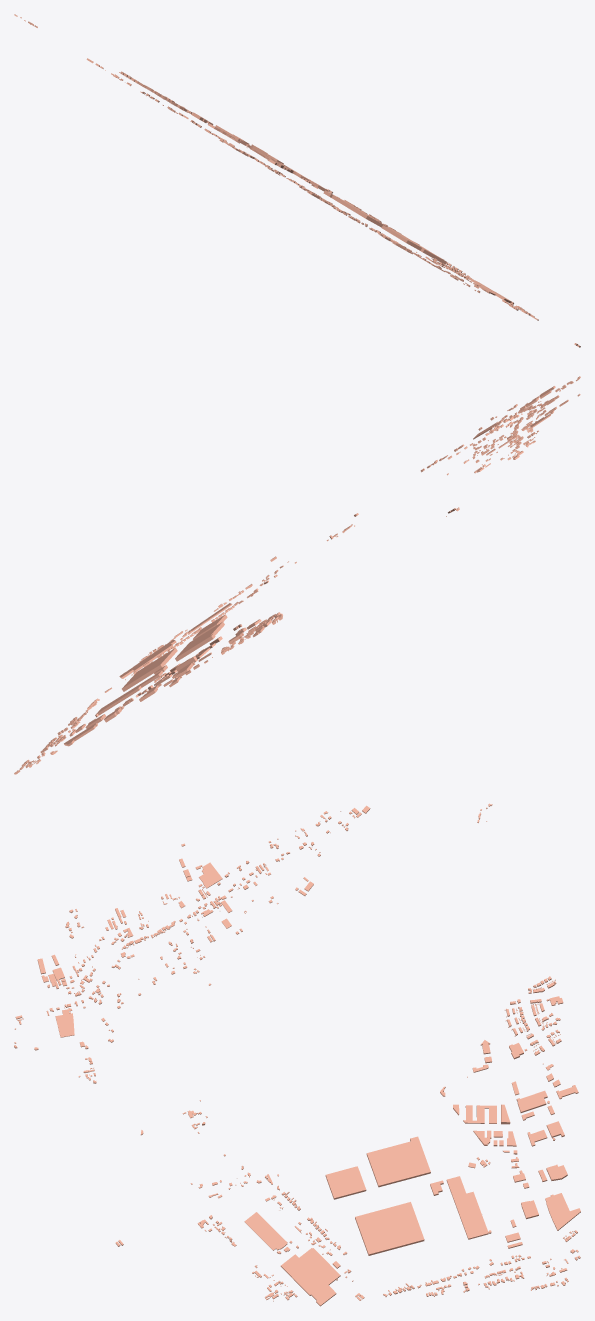
The picture shows the model from 3 angles, top to bottom: view 1: azimuth 30°, elevation 25°; view 2: azimuth 150°, elevation 25°; view 3: azimuth 270°, elevation 25°; orthographic projection. The views are drawn at different scales.
Size of the model in its own units: 1991 by 1513 by 2482.
